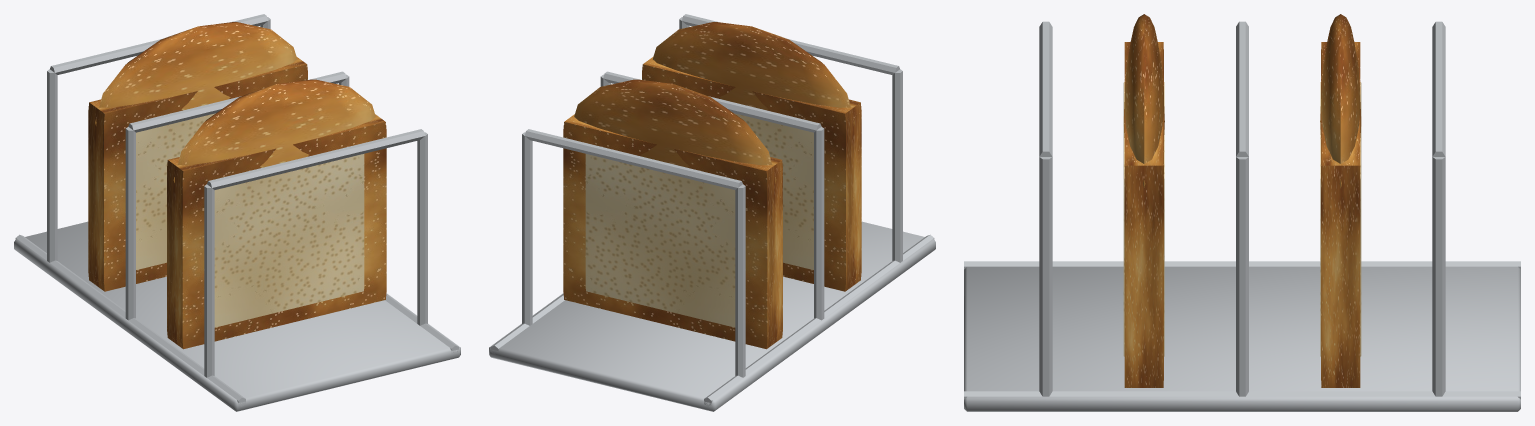
File: bakery_toast_in_rack.glb
3 renders of one model, left to right at view 1: azimuth 30°, elevation 25°; view 2: azimuth 150°, elevation 25°; view 3: azimuth 270°, elevation 25°, orthographic. The views are drawn at different scales.
Parts seen in each view (by area): view 1: bakery_toast_in_rack; view 2: bakery_toast_in_rack; view 3: bakery_toast_in_rack.
Part boxes in pixels (<box>): bakery_toast_in_rack: <box>14,14,460,411</box>; bakery_toast_in_rack: <box>489,14,935,411</box>; bakery_toast_in_rack: <box>964,14,1520,411</box>.
Bounding box in the file's own units: 0.1 × 0.105 × 0.17.
Materials: 3 (2 with a texture image).
